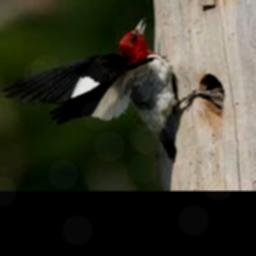Woodpecker: (4, 18, 222, 162)
